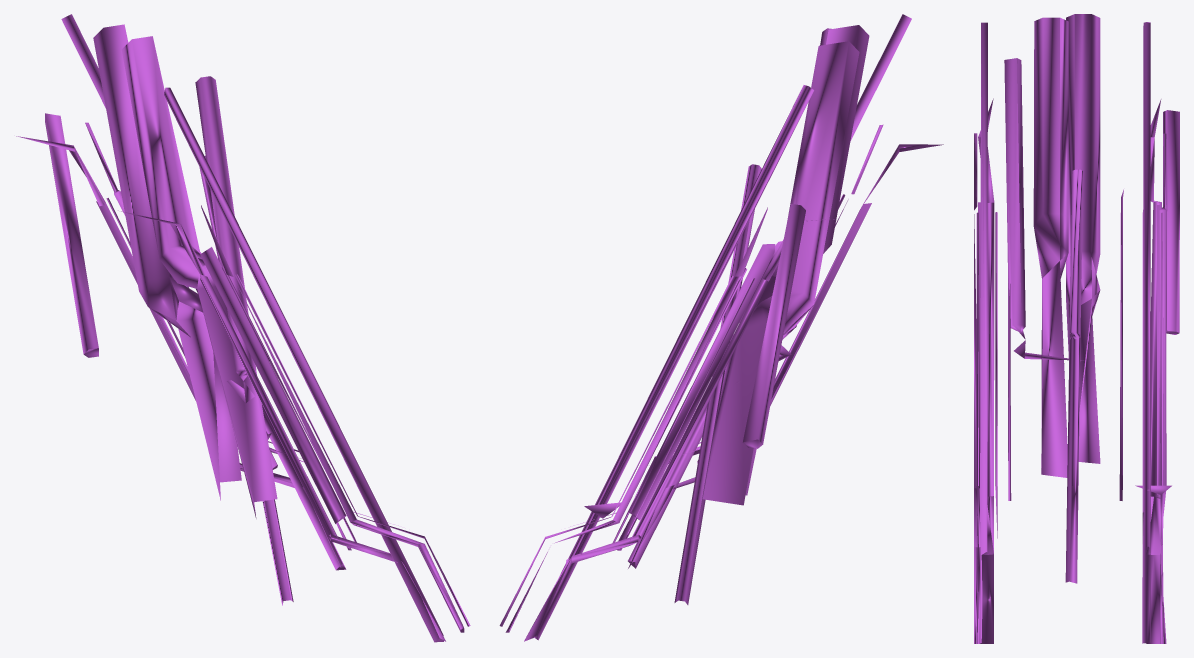
File: backdrop_lpad_wallbase_a_lod5.glb
3 renders of one model, left to right at view 1: azimuth 30°, elevation 25°; view 2: azimuth 150°, elevation 25°; view 3: azimuth 270°, elevation 25°, orthographic. The views are drawn at different scales.
Bounding box in the file's own units: 189 × 331 × 118.
